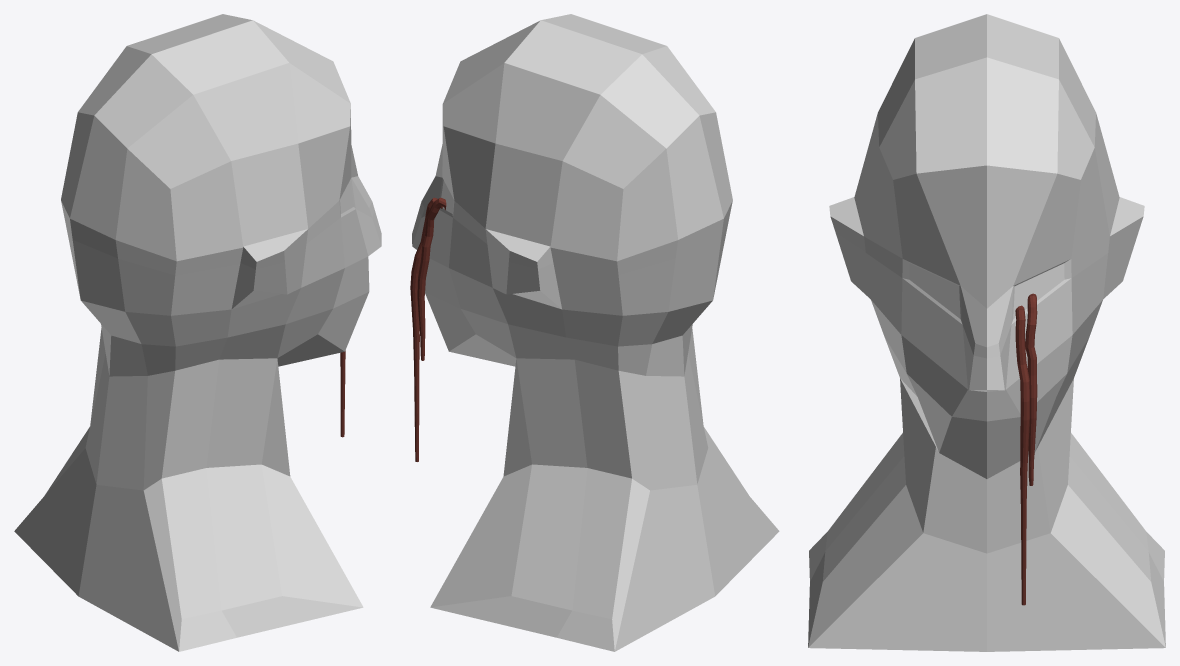
File: head_statue_a.fbx
The picture shows the model from 3 angles, left to right: view 1: azimuth 30°, elevation 25°; view 2: azimuth 150°, elevation 25°; view 3: azimuth 270°, elevation 25°; orthographic projection. The views are drawn at different scales.
Parts seen in each view (by area): view 1: Head; view 2: Head, Rope; view 3: Head, Rope.
Boxes of the visible parts, bbox=[...] form: Head: bbox=[14, 14, 381, 651]; Head: bbox=[412, 14, 779, 651]; Rope: bbox=[410, 197, 446, 461]; Head: bbox=[808, 14, 1165, 651]; Rope: bbox=[1015, 293, 1037, 605].
Bounding box in the file's own units: 194 × 317 × 178.
